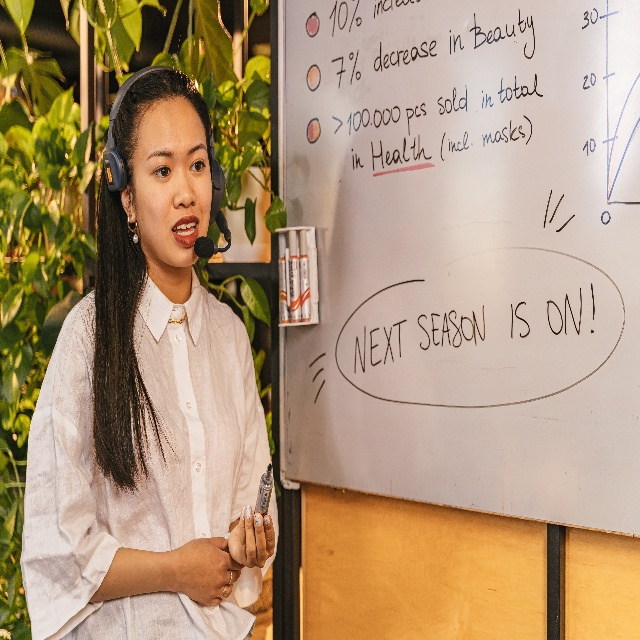Sin_guantes: (175, 531, 246, 607), (228, 505, 275, 569)
